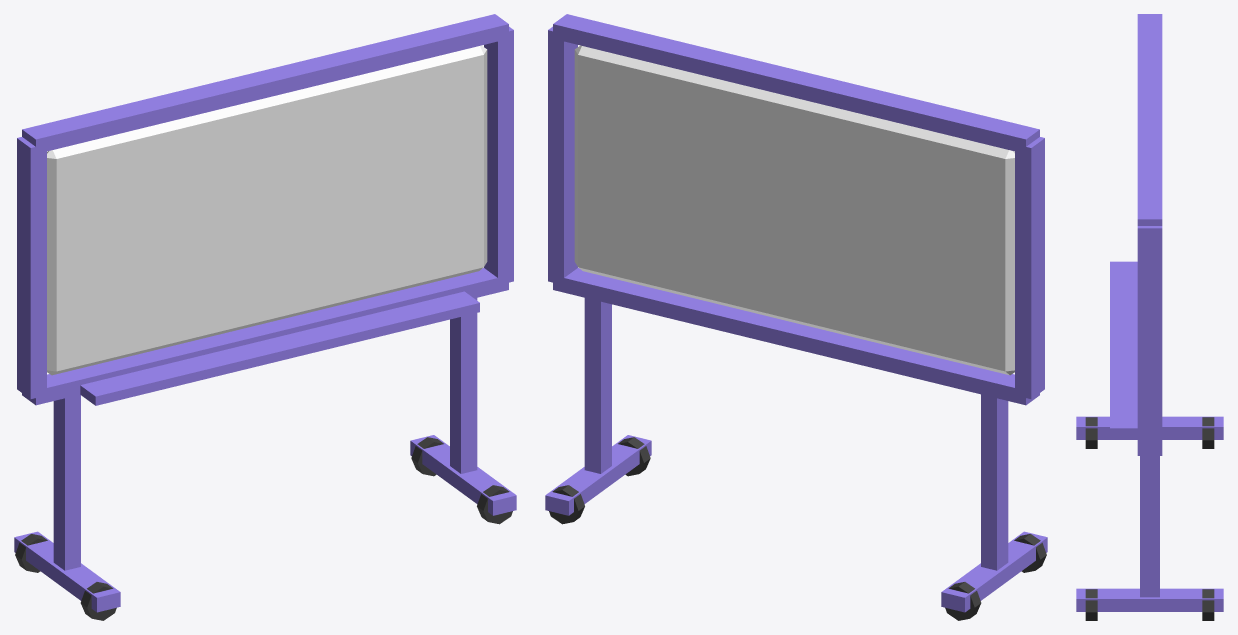
The picture shows the model from 3 angles, left to right: view 1: azimuth 30°, elevation 25°; view 2: azimuth 150°, elevation 25°; view 3: azimuth 270°, elevation 25°; orthographic projection. The views are drawn at different scales.
Parts seen in each view (by area): view 1: Writing surface, Frame rail.001, Marker ledge, Frame rail, Frame upright, Frame upright.001, Stand, Stand.001, Caster beam, Caster beam.001; view 2: Writing surface, Frame rail.001, Frame rail, Frame upright, Frame upright.001, Stand.001, Stand, Caster beam, Caster beam.001; view 3: Frame upright.001, Frame rail.001, Marker ledge, Caster beam.001, Stand.001, Caster beam, Wheel, Wheel.001, Wheel.002, Wheel.003.
Part boxes in pixels (left/top/right/bottom): Writing surface: left=47, top=45, right=487, bottom=375; Frame rail.001: left=22, top=14, right=508, bottom=153; Marker ledge: left=80, top=291, right=479, bottom=405; Frame rail: left=22, top=268, right=508, bottom=405; Frame upright: left=17, top=137, right=46, bottom=399; Frame upright.001: left=484, top=26, right=513, bottom=284; Stand: left=53, top=394, right=80, bottom=570; Stand.001: left=450, top=298, right=477, bottom=473; Caster beam: left=14, top=531, right=120, bottom=612; Caster beam.001: left=410, top=435, right=516, bottom=515; Writing surface: left=574, top=45, right=1014, bottom=375; Frame rail.001: left=553, top=14, right=1039, bottom=153; Frame rail: left=553, top=268, right=1039, bottom=405; Frame upright: left=1015, top=137, right=1044, bottom=399; Frame upright.001: left=548, top=26, right=577, bottom=284; Stand.001: left=584, top=298, right=611, bottom=473; Stand: left=981, top=394, right=1008, bottom=570; Caster beam: left=941, top=531, right=1047, bottom=612; Caster beam.001: left=545, top=435, right=651, bottom=515; Frame upright.001: left=1137, top=226, right=1162, bottom=451; Frame rail.001: left=1137, top=14, right=1162, bottom=225; Marker ledge: left=1110, top=261, right=1137, bottom=436; Caster beam.001: left=1076, top=588, right=1223, bottom=611; Stand.001: left=1140, top=456, right=1159, bottom=597; Caster beam: left=1076, top=416, right=1223, bottom=439; Wheel: left=1085, top=417, right=1097, bottom=448; Wheel.001: left=1202, top=417, right=1214, bottom=448; Wheel.002: left=1085, top=589, right=1097, bottom=620; Wheel.003: left=1202, top=589, right=1214, bottom=620.
Size of the model in its own units: 1.62 by 1.5 by 0.48.
Materials: 1 (1 with a texture image).
